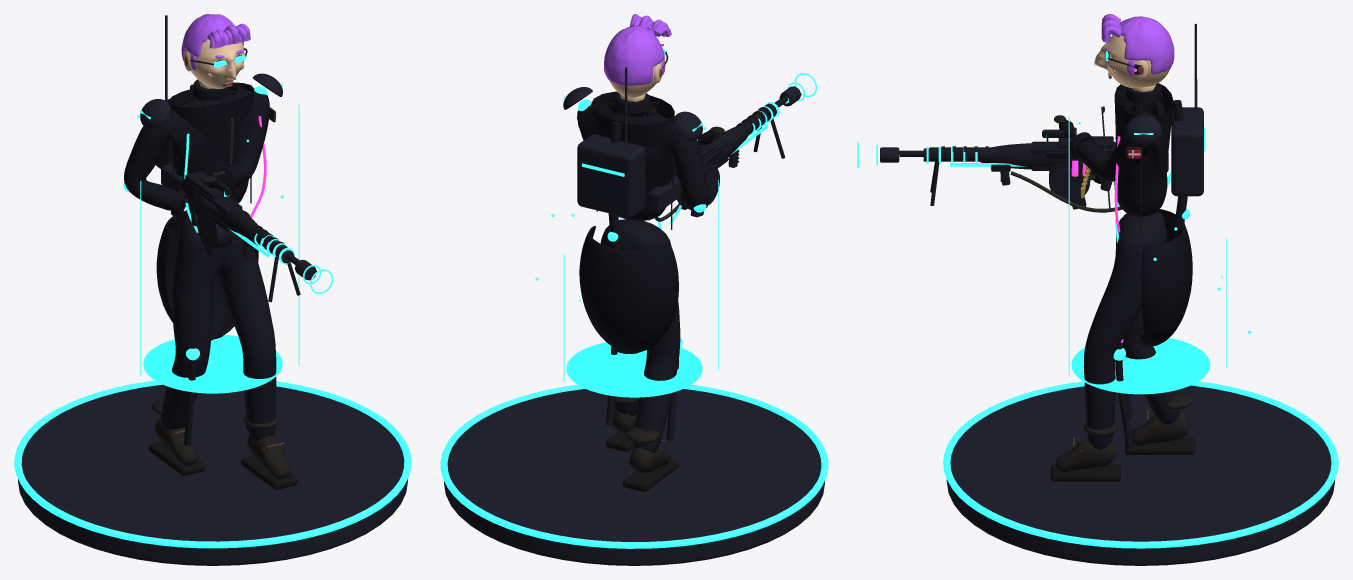
File: garder_neon.glb
3 views of the same model, side by side, from view 1: azimuth 30°, elevation 25°; view 2: azimuth 150°, elevation 25°; view 3: azimuth 270°, elevation 25° (orthographic). The views are drawn at different scales.
Parts seen in each view (by area): view 1: fod_net, menneske_net, op4.001_net, vaaben_net, hoved_net, op3.001_net, op4_net, op4.002_net, op3_net; view 2: fod_net, menneske_net, op3.001_net, op4.001_net, hoved_net, vaaben_net, op4_net, op4.002_net, op3_net; view 3: fod_net, menneske_net, op4.001_net, vaaben_net, hoved_net, op3.001_net, op4_net, op3_net, op4.002_net.
Part boxes in pixels (x1,y1,x2,y2): fod_net: [14, 380, 411, 565]; menneske_net: [124, 79, 297, 489]; op4.001_net: [137, 104, 299, 393]; vaaben_net: [161, 164, 300, 302]; hoved_net: [181, 14, 250, 89]; op3.001_net: [140, 15, 283, 168]; op4_net: [123, 84, 267, 445]; op4.002_net: [229, 229, 333, 293]; op3_net: [193, 190, 316, 280]; fod_net: [440, 384, 828, 565]; menneske_net: [577, 91, 724, 491]; op3.001_net: [563, 67, 702, 217]; op4.001_net: [535, 127, 718, 397]; hoved_net: [604, 14, 671, 98]; vaaben_net: [649, 96, 787, 212]; op4_net: [578, 99, 706, 440]; op4.002_net: [731, 73, 817, 154]; op3_net: [703, 86, 801, 174]; fod_net: [943, 381, 1338, 565]; menneske_net: [1051, 83, 1195, 481]; op4.001_net: [1068, 116, 1251, 394]; vaaben_net: [899, 129, 1168, 205]; hoved_net: [1094, 14, 1174, 88]; op3.001_net: [1125, 24, 1205, 196]; op4_net: [1111, 100, 1190, 449]; op3_net: [880, 147, 1082, 167]; op4.002_net: [857, 142, 1171, 186].
Size of the model in its own units: 1.94 by 2.52 by 2.36.
